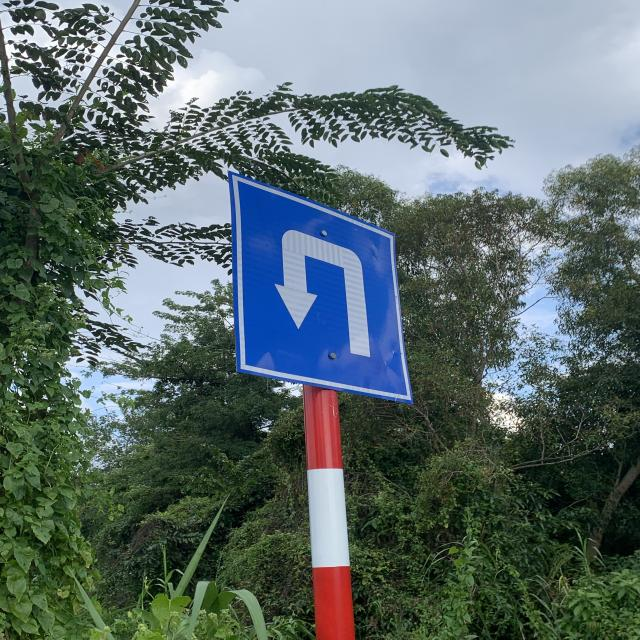Den_Giao_Thong: (235, 173, 408, 400)
